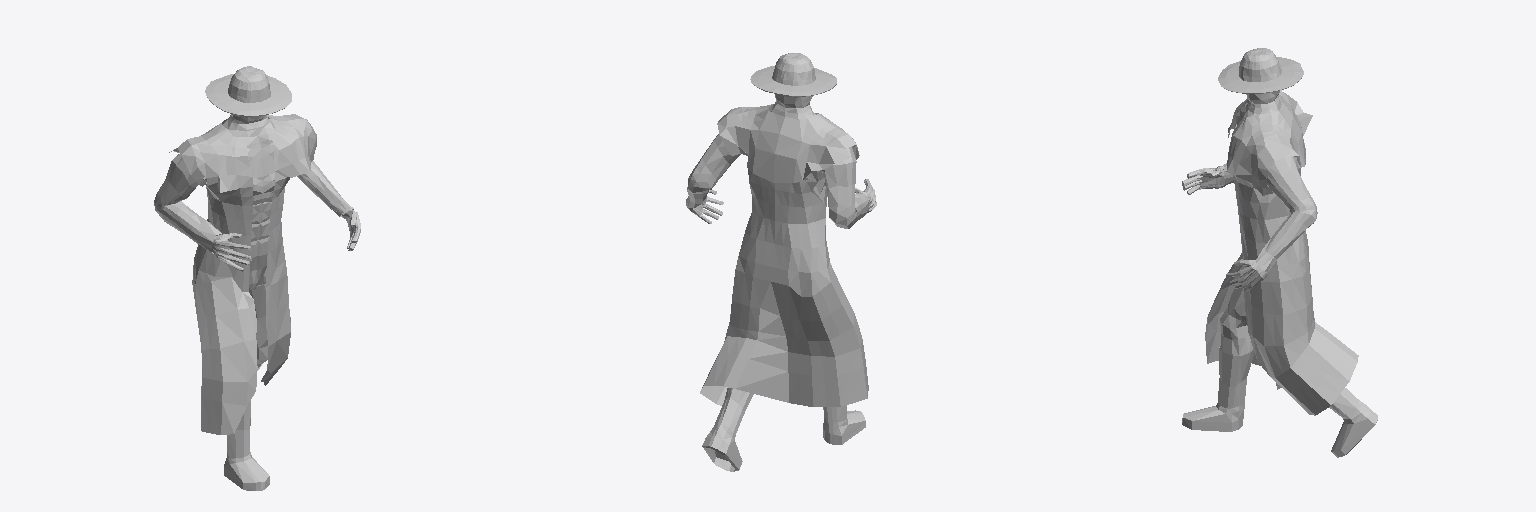
3 views of the same model, side by side, from view 1: azimuth 30°, elevation 25°; view 2: azimuth 150°, elevation 25°; view 3: azimuth 270°, elevation 25° (orthographic).
Visible parts, largest first — view 1: Undertaker_walk:Undertaker_4:Undertaker_4:Undertaker; view 2: Undertaker_walk:Undertaker_4:Undertaker_4:Undertaker; view 3: Undertaker_walk:Undertaker_4:Undertaker_4:Undertaker.
Part boxes in pixels (x1,y1,x2,y2): Undertaker_walk:Undertaker_4:Undertaker_4:Undertaker: (154, 66, 360, 490); Undertaker_walk:Undertaker_4:Undertaker_4:Undertaker: (686, 53, 876, 471); Undertaker_walk:Undertaker_4:Undertaker_4:Undertaker: (1182, 48, 1377, 457).
Bounding box in the file's own units: 1.38 × 2.85 × 1.29.